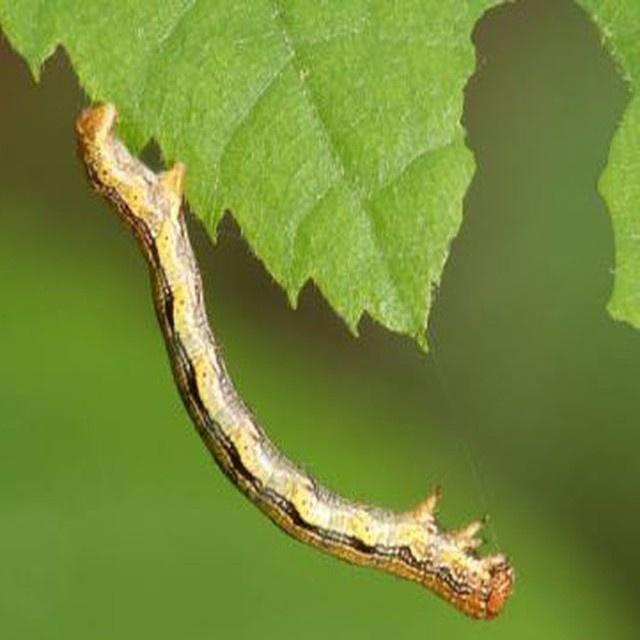gusano_cogollero: (67, 94, 520, 626)
